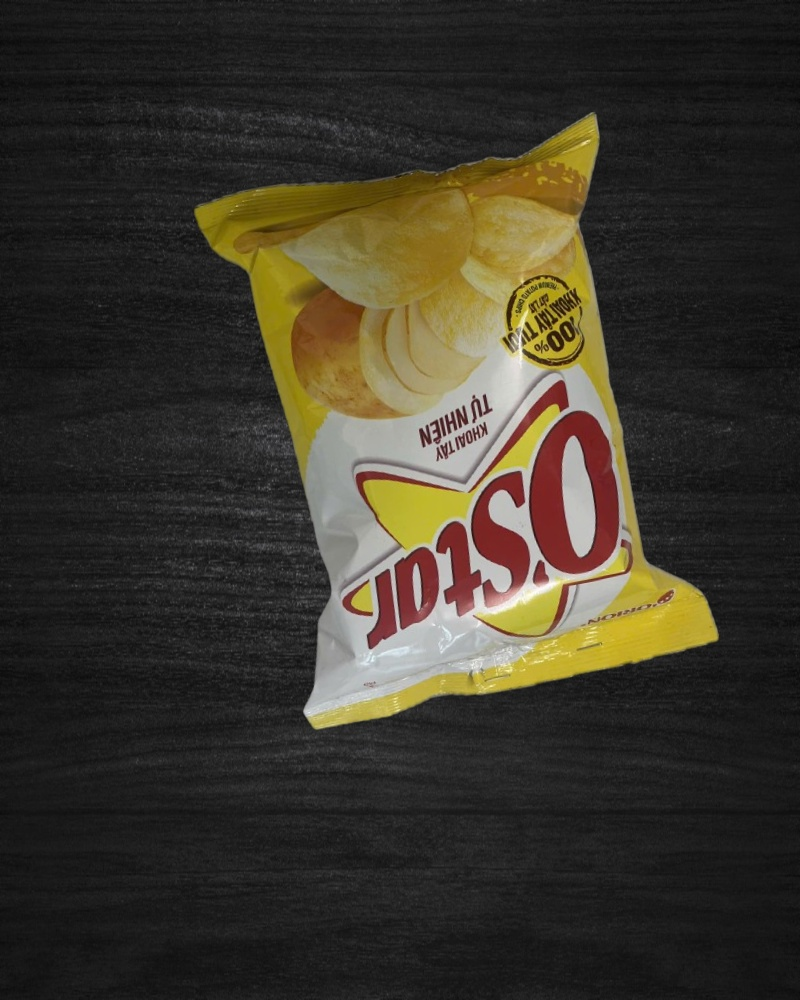Snack cua: (196, 113, 720, 728)
